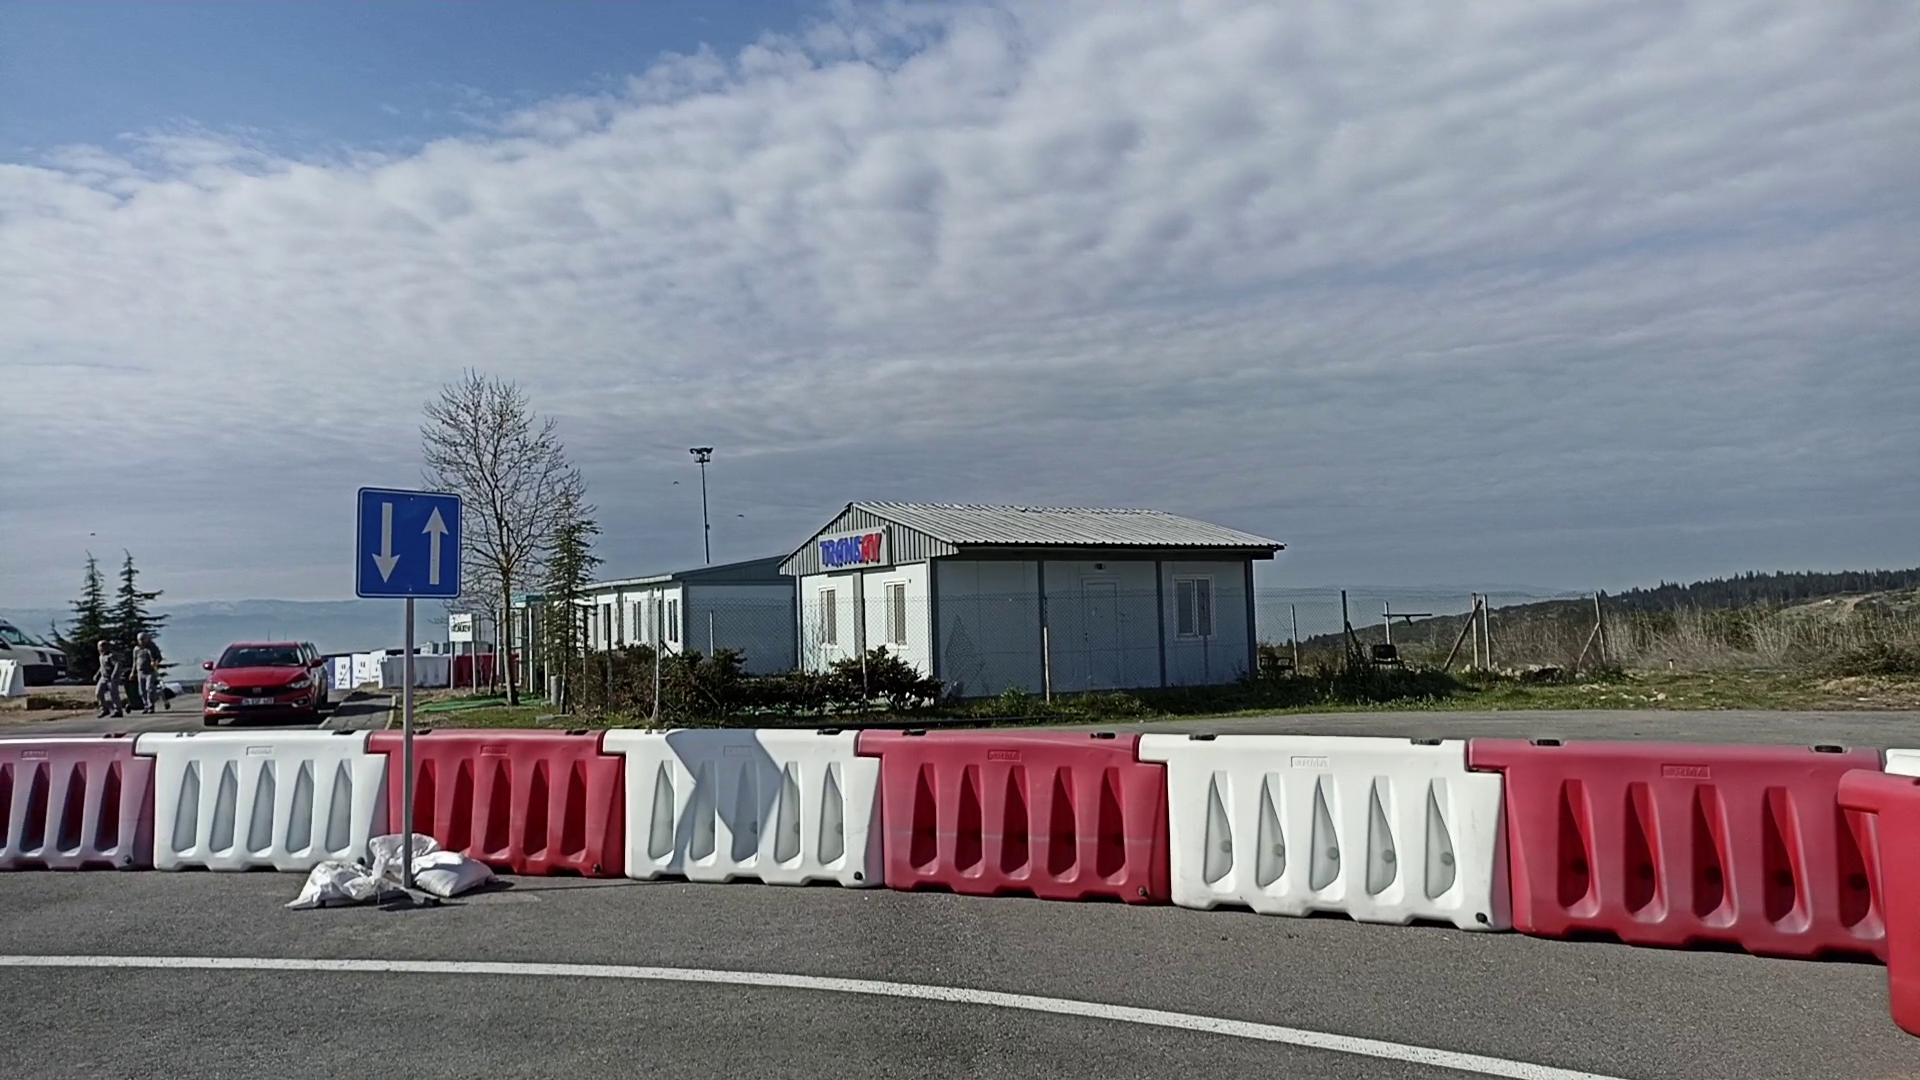oneway: (353, 487, 463, 601)
